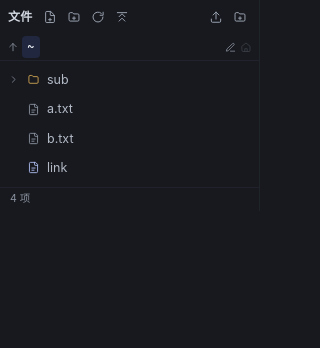
it: FileTree entry points and state migration › directory rows offer rename and permissions but not checksum
Expected: the list item "a.txt" is shown, [27, 101, 73, 116]
Right-click the list item "sub" at (37, 80), box [6, 72, 69, 87]
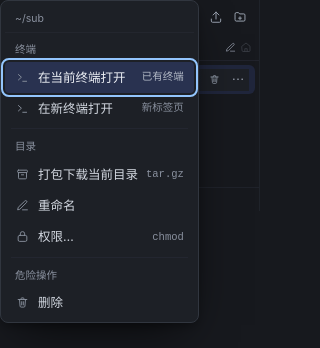
Expected: the menu item "重命名" is shown, [5, 190, 194, 221]
Expected: the menu item "权限… chmod" is shown, [5, 221, 194, 253]
